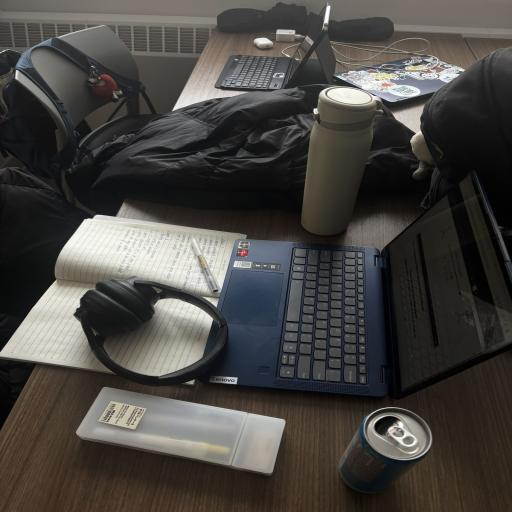bench: (300, 84, 387, 239)
corridor: (185, 161, 512, 406), (334, 50, 477, 106)
door: (64, 76, 436, 212)
person: (0, 29, 162, 183)
